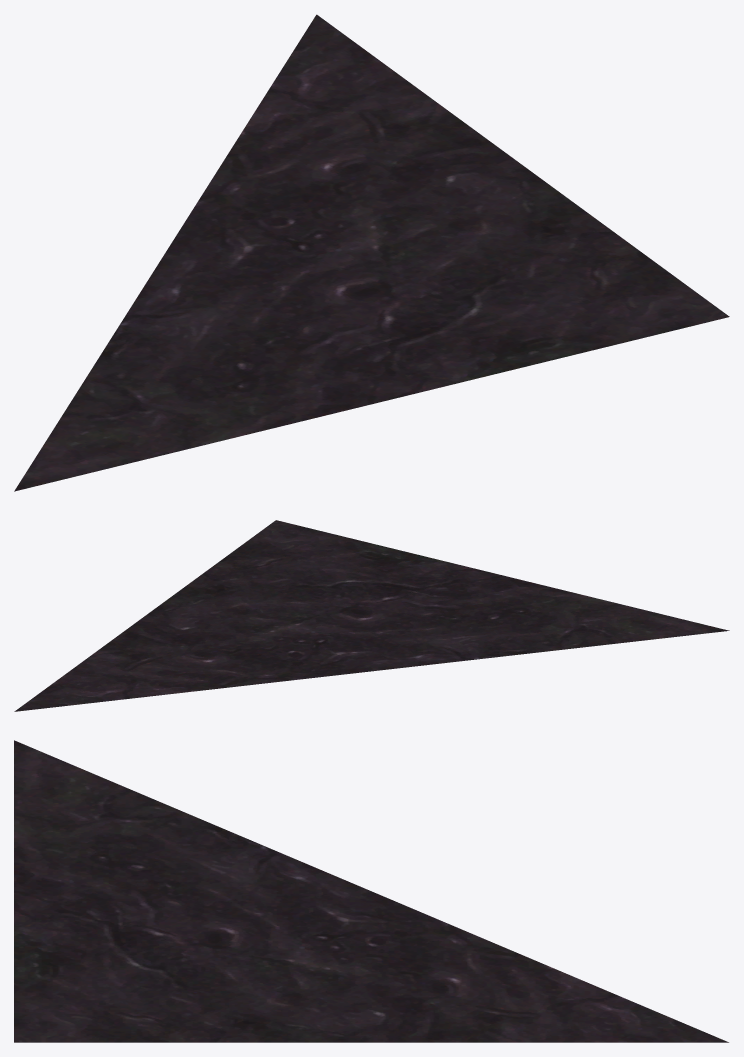
Rendered from cave_floor_diagonal_03.fbx.
The picture shows the model from 3 angles, top to bottom: view 1: azimuth 30°, elevation 25°; view 2: azimuth 150°, elevation 25°; view 3: azimuth 270°, elevation 25°; orthographic projection. The views are drawn at different scales.
Visible parts, largest first — view 1: cave_tileset/floor01_shadow; view 2: cave_tileset/floor01_shadow; view 3: cave_tileset/floor01_shadow.
Part boxes in pixels (left/top/right/bottom): cave_tileset/floor01_shadow: left=14, top=14, right=729, bottom=491; cave_tileset/floor01_shadow: left=14, top=520, right=729, bottom=711; cave_tileset/floor01_shadow: left=14, top=740, right=728, bottom=1042.
Size of the model in its own units: 4 by 3.57e-11 by 4.
